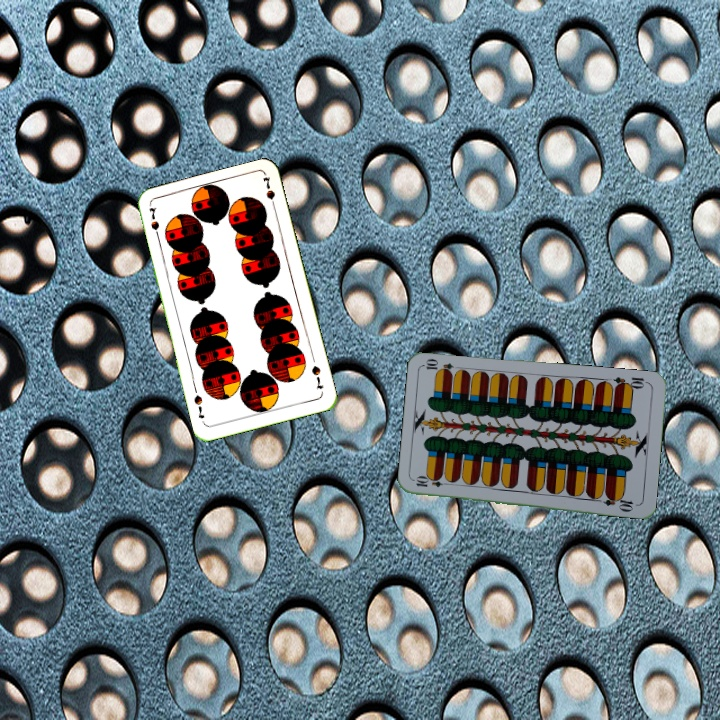E10: (610, 373, 651, 392), (412, 475, 453, 490)
S7: (145, 204, 162, 243), (307, 361, 326, 392)
